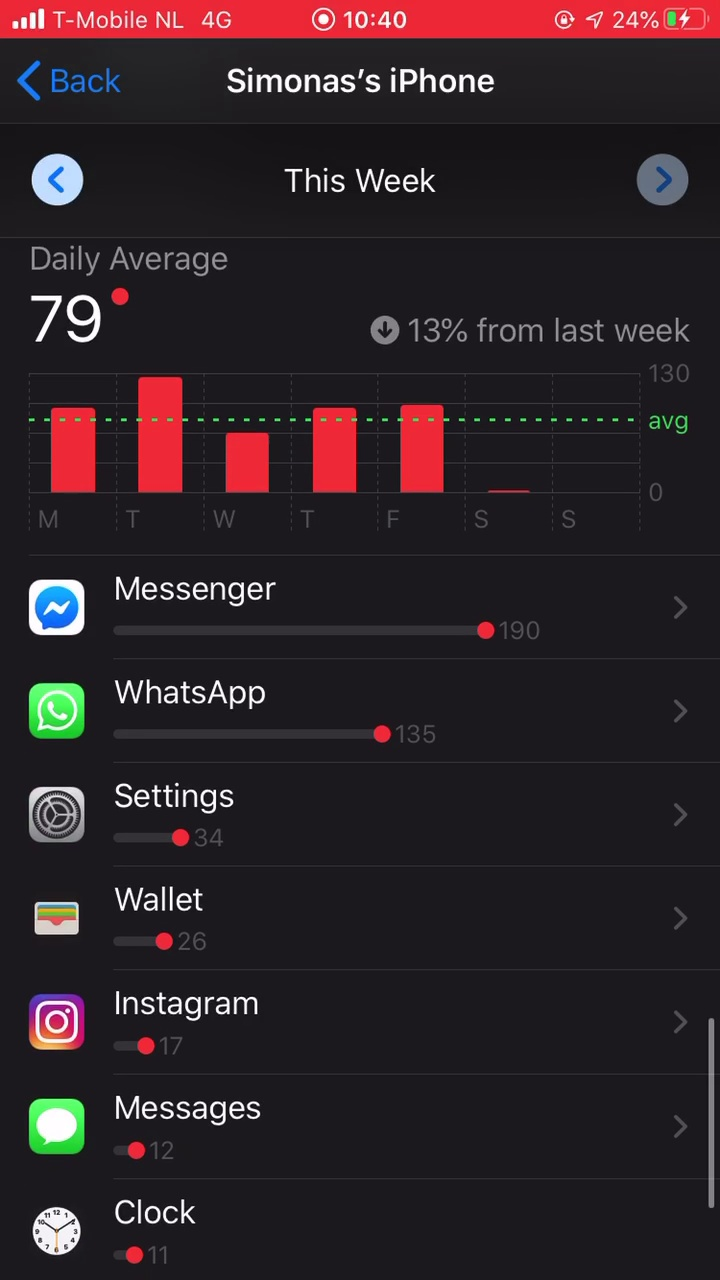not_app: (23, 557, 559, 658), (28, 677, 464, 755), (25, 1085, 290, 1174), (25, 774, 289, 860), (23, 1188, 281, 1271), (32, 983, 293, 1057), (31, 880, 237, 957)
not_over: (22, 234, 252, 363)
week: (264, 160, 462, 209)
